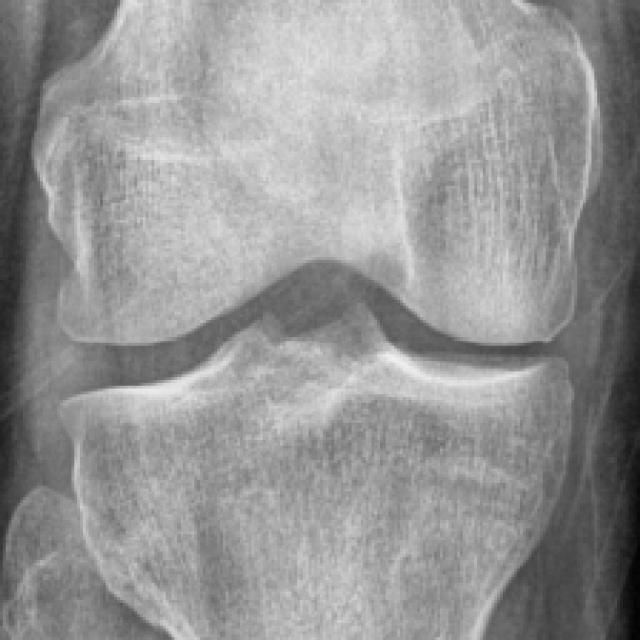femur: (30, 0, 606, 346)
tibia: (57, 321, 574, 640)
